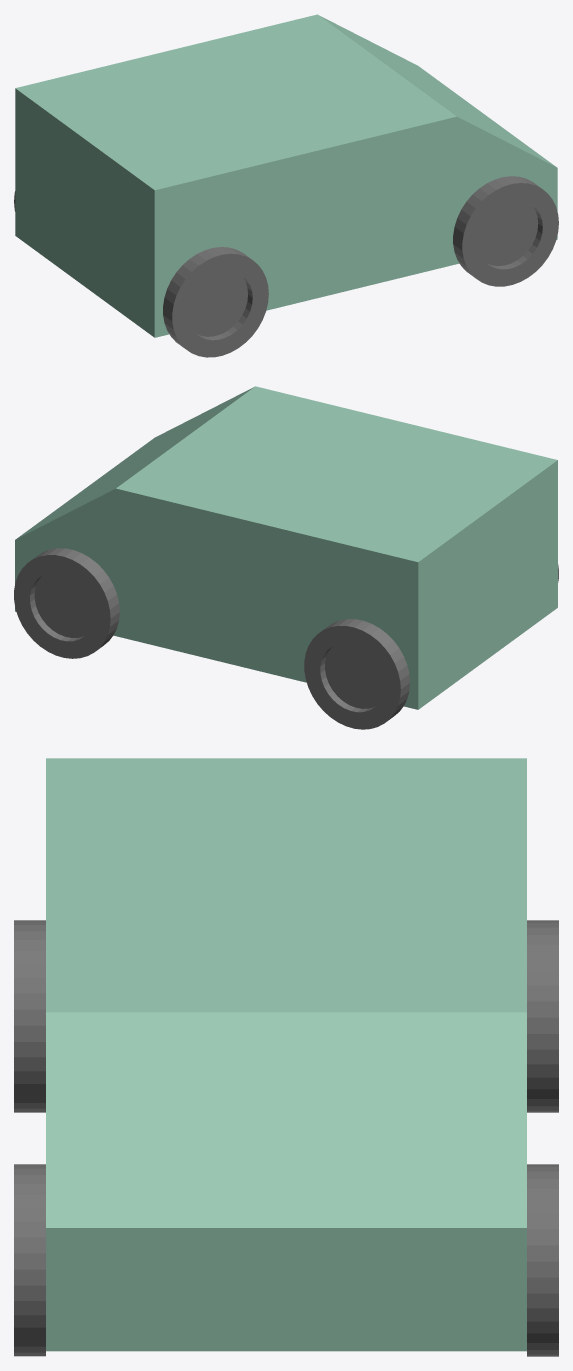
Rendered from car.obj.
3 views of the same model, one above another, from view 1: azimuth 30°, elevation 25°; view 2: azimuth 150°, elevation 25°; view 3: azimuth 270°, elevation 25° (orthographic). The views are drawn at different scales.
Parts seen in each view (by area): view 1: b_car_body_001_, b_car_wheel_001_001, b_car_wheel_001_002; view 2: b_car_body_001_, b_car_wheel_001_003, b_car_wheel_001_; view 3: b_car_body_001_, b_car_wheel_001_002, b_car_wheel_001_003, b_car_wheel_001_, b_car_wheel_001_001.
Part boxes in pixels (x1,y1,x2,y2): b_car_body_001_: (15,14,557,337); b_car_wheel_001_001: (163,247,268,357); b_car_wheel_001_002: (453,176,558,286); b_car_body_001_: (15,386,557,709); b_car_wheel_001_003: (14,548,119,658); b_car_wheel_001_: (304,619,410,729); b_car_body_001_: (46,758,526,1351); b_car_wheel_001_002: (14,1164,45,1356); b_car_wheel_001_003: (527,1164,558,1356); b_car_wheel_001_: (527,920,558,1112); b_car_wheel_001_001: (14,920,45,1112).
Size of the model in its own units: 100 by 40.99 by 68.
